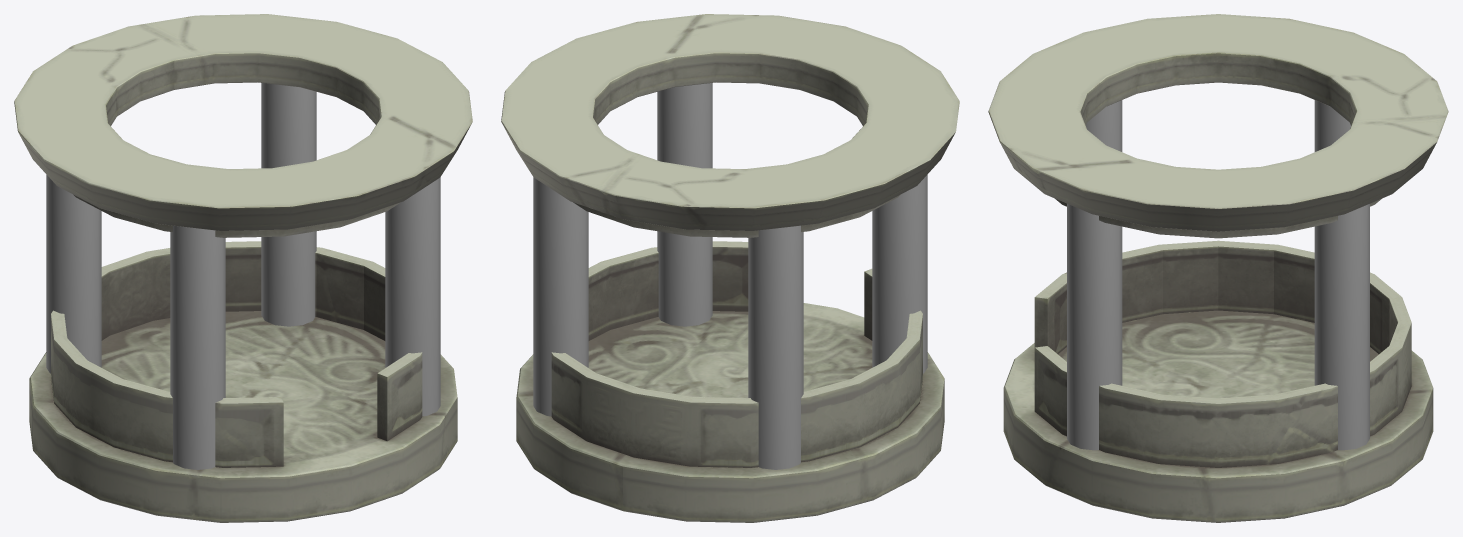
The model's file is terrance.fbx.
3 renders of one model, left to right at view 1: azimuth 30°, elevation 25°; view 2: azimuth 150°, elevation 25°; view 3: azimuth 270°, elevation 25°, orthographic.
Parts seen in each view (by area): view 1: pCylinder2, pCylinder1, pCylinder4, pillar_low1, pillar_low2, pillar_low3, pillar_low4, pCylinder5; view 2: pCylinder2, pCylinder1, pCylinder4, pillar_low4, pillar_low3, pillar_low2, pillar_low1, pCylinder5; view 3: pCylinder2, pCylinder1, pCylinder4, pillar_low2, pillar_low3, pCylinder5, pillar_low1, pillar_low4.
Part boxes in pixels (x1,y1,x2,y2): pCylinder2: (14,14,472,230); pCylinder1: (29,311,457,522); pCylinder4: (51,241,422,467); pillar_low1: (170,225,225,469); pillar_low2: (385,177,440,416); pillar_low3: (261,83,316,326); pillar_low4: (46,175,101,373); pCylinder5: (73,194,400,237); pCylinder2: (501,14,959,230); pCylinder1: (516,303,944,522); pCylinder4: (551,241,922,467); pillar_low4: (748,225,803,469); pillar_low3: (533,177,588,416); pillar_low2: (657,83,712,326); pillar_low1: (872,175,927,373); pCylinder5: (573,194,900,237); pCylinder2: (988,14,1448,231); pCylinder1: (1003,310,1433,522); pCylinder4: (1034,240,1411,467); pillar_low2: (1067,204,1122,450); pillar_low3: (1314,204,1369,450); pCylinder5: (1055,198,1381,238); pillar_low1: (1086,100,1122,151); pillar_low4: (1314,100,1350,151).
Size of the model in its own units: 15.8 by 12.18 by 15.8.
2 materials, 1 textured.
